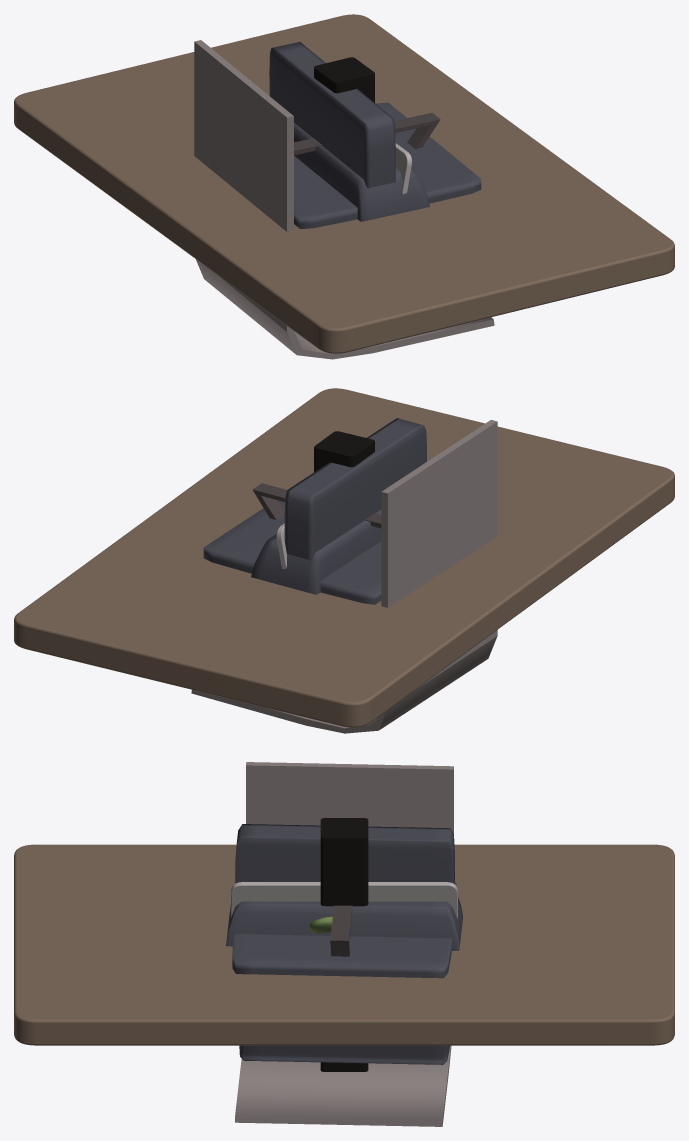
File: desk.glb
3 renders of one model, top to bottom at view 1: azimuth 30°, elevation 25°; view 2: azimuth 150°, elevation 25°; view 3: azimuth 270°, elevation 25°, orthographic. The views are drawn at different scales.
Visible parts, largest first — view 1: wood, Cube (×2), Cube 2, Cube 3 (×3), Rectangle 4, Rectangle; view 2: wood, Cube (×2), Cube 2, Cube 3 (×2), Rectangle 4 (×2); view 3: wood, Cube (×2), Cube 2, Cube 3 (×2), Rectangle 4 (×2), Rectangle.
Boxes of the visible parts, x1=… form: wood: x1=14, y1=14, x2=674, y2=353; Cube (×2): x1=194, y1=40, x2=494, y2=359; Cube 2: x1=269, y1=42, x2=395, y2=188; Cube 3 (×3): x1=294, y1=102, x2=481, y2=228; Rectangle 4: x1=314, y1=57, x2=374, y2=102; Rectangle: x1=395, y1=143, x2=412, y2=194; wood: x1=14, y1=388, x2=674, y2=727; Cube (×2): x1=191, y1=420, x2=497, y2=733; Cube 2: x1=284, y1=418, x2=426, y2=560; Cube 3 (×2): x1=203, y1=489, x2=381, y2=604; Rectangle 4 (×2): x1=314, y1=431, x2=374, y2=472; wood: x1=14, y1=844, x2=674, y2=1045; Cube (×2): x1=226, y1=762, x2=462, y2=1126; Cube 2: x1=235, y1=824, x2=454, y2=1064; Cube 3 (×2): x1=232, y1=881, x2=456, y2=978; Rectangle 4 (×2): x1=320, y1=818, x2=368, y2=1071; Rectangle: x1=231, y1=882, x2=457, y2=918.
Bounding box in the file's own units: 6567815 × 4512260 × 1.04e+07.
